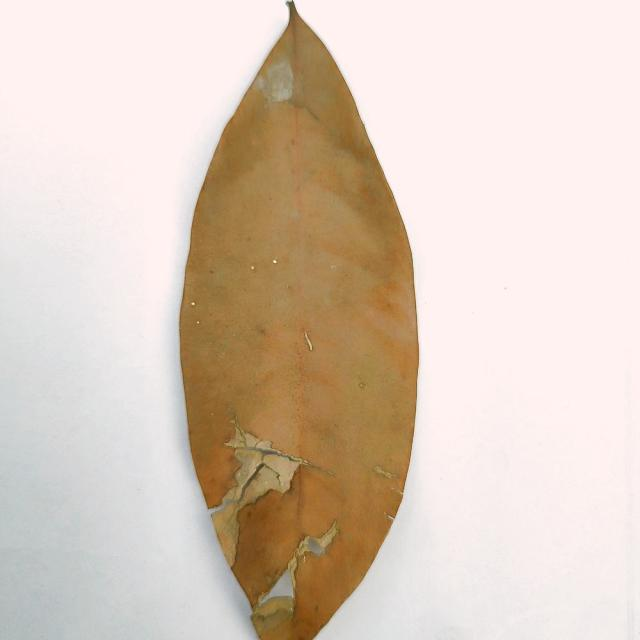Dry_Leaf-Lychee: (178, 3, 420, 639)
